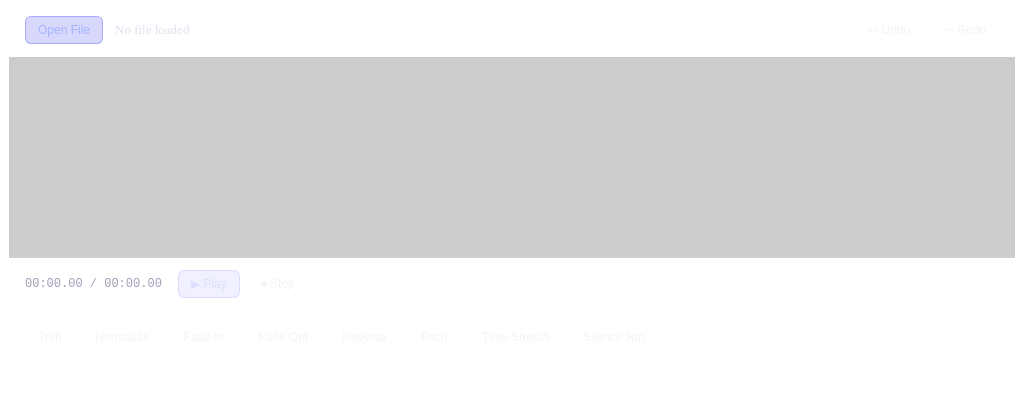
Test: WaveEditor Component › File Operations › displays filename in top bar after file is loaded
Click the button "Open File" at (64, 30), box [25,16,103,44]
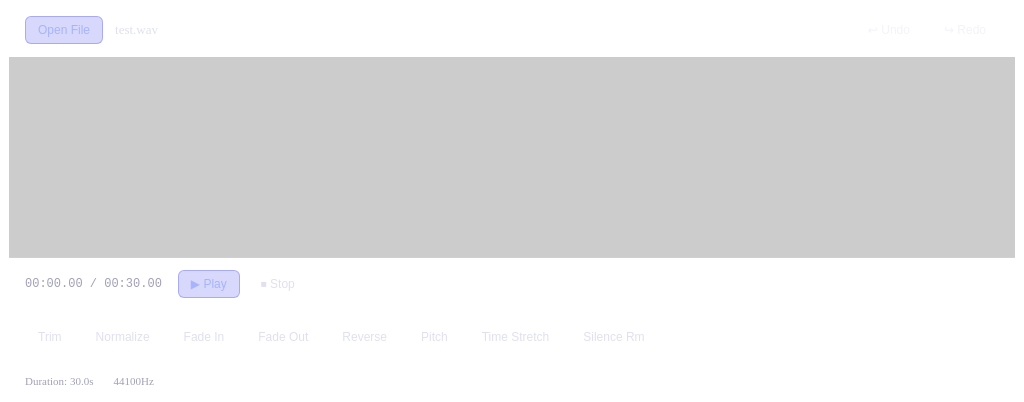
Result: the text with class "filename" reads "test.wav" at [115,22,158,37]
